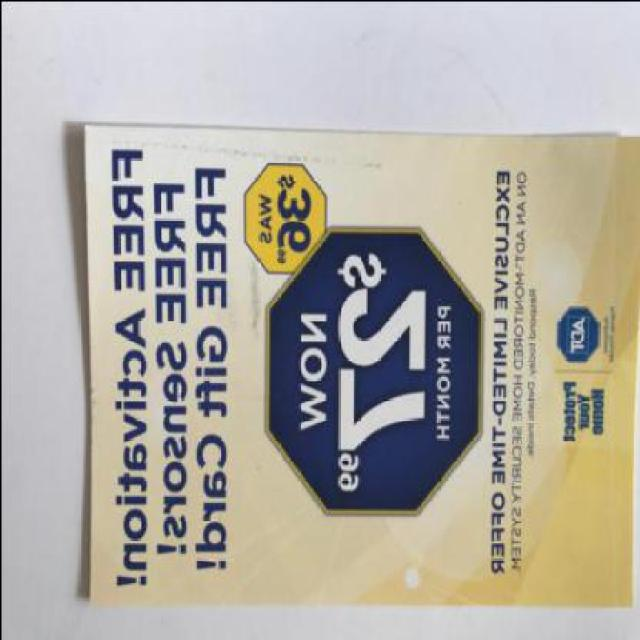paper: (83, 123, 639, 603)
